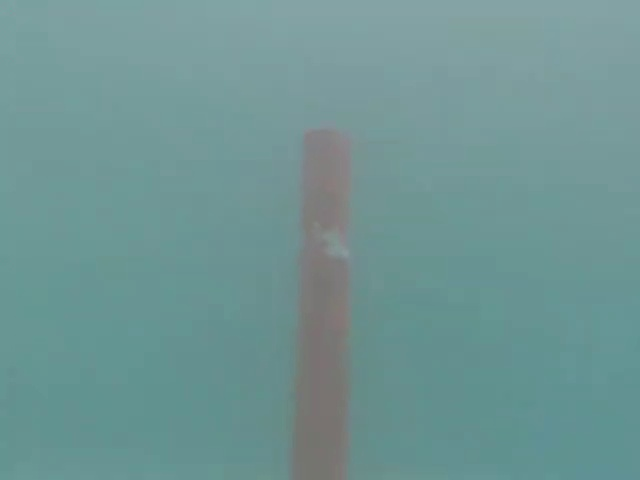flare: (288, 111, 367, 480)
